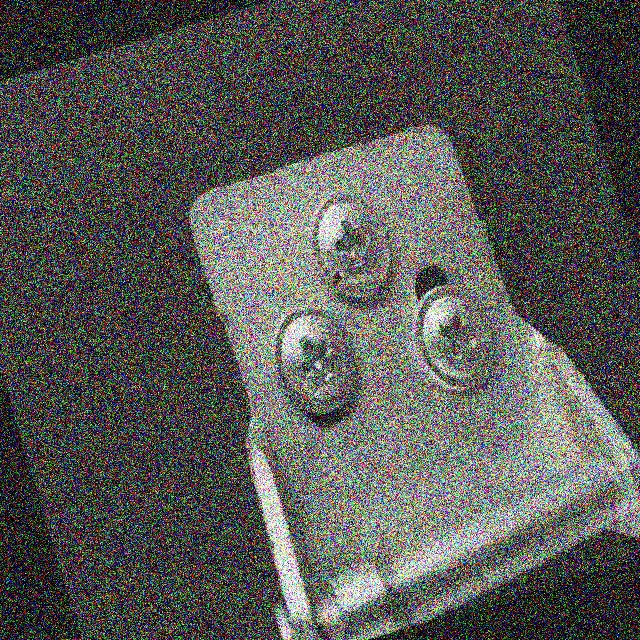phillips: (259, 297, 368, 423), (398, 275, 504, 402), (298, 185, 405, 308)
